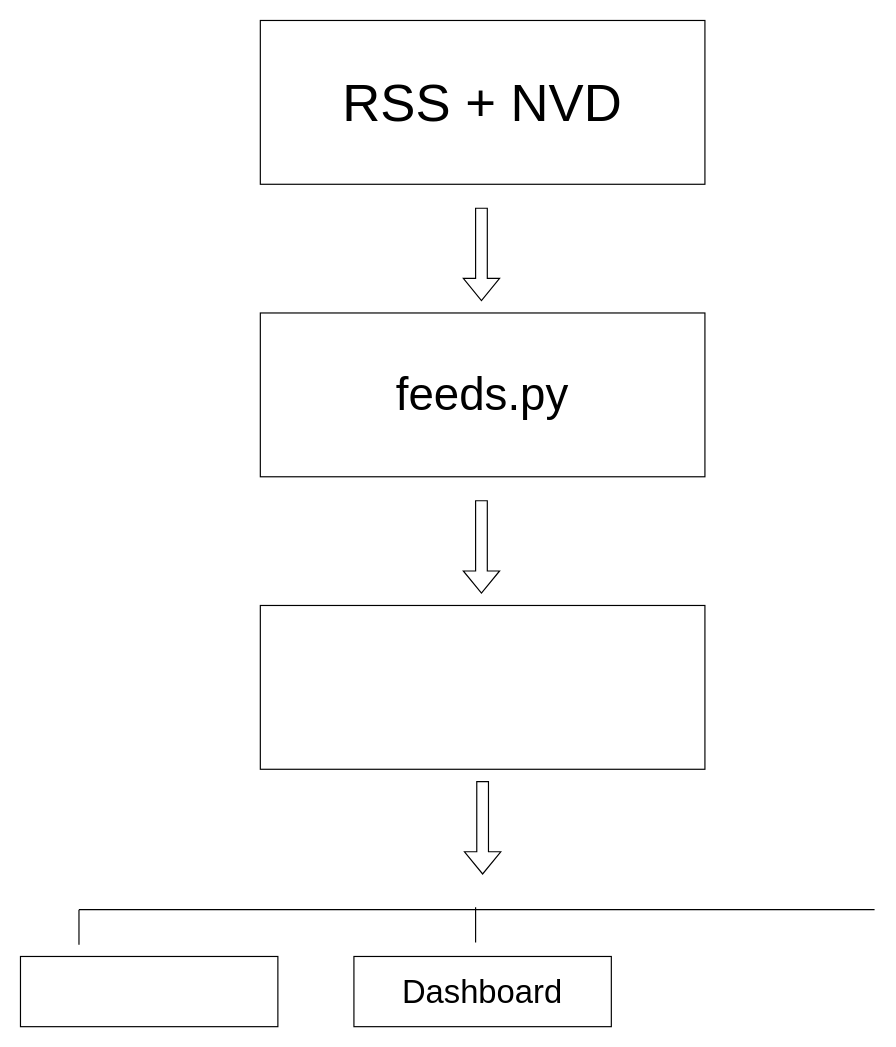
Some shapes in this 896 by 1047 pixel diagram are drawn without their labels. The shapes that lost their labels are listed below. From the top down, each one's centre as x and y in pixels, then its label:
[482,686]: SQLite DB
[148,991]: Telegram
